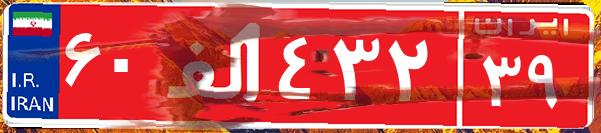0: (110, 28, 158, 105)
2: (385, 28, 445, 110)
3: (330, 28, 385, 110), (475, 38, 525, 113)
4: (273, 28, 330, 110)
6: (57, 26, 110, 107)
9: (525, 38, 570, 115)
الف: (158, 15, 273, 115)
